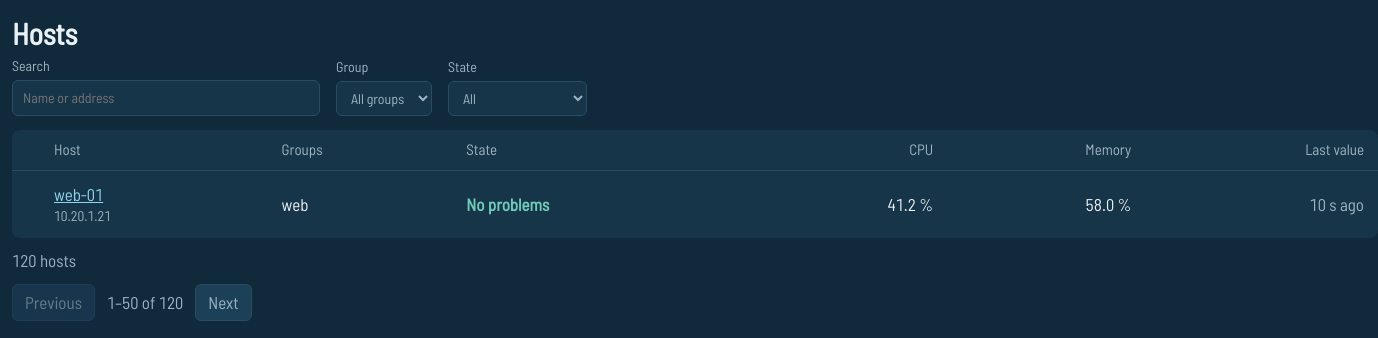
Test: table › keeps the pager on the shown page and disabled while the next page loads
This screenshot has width=1378, height=338.
Later steps or results of the test are not shown.
Click the button "Next": (224, 303) [195,284,252,321]
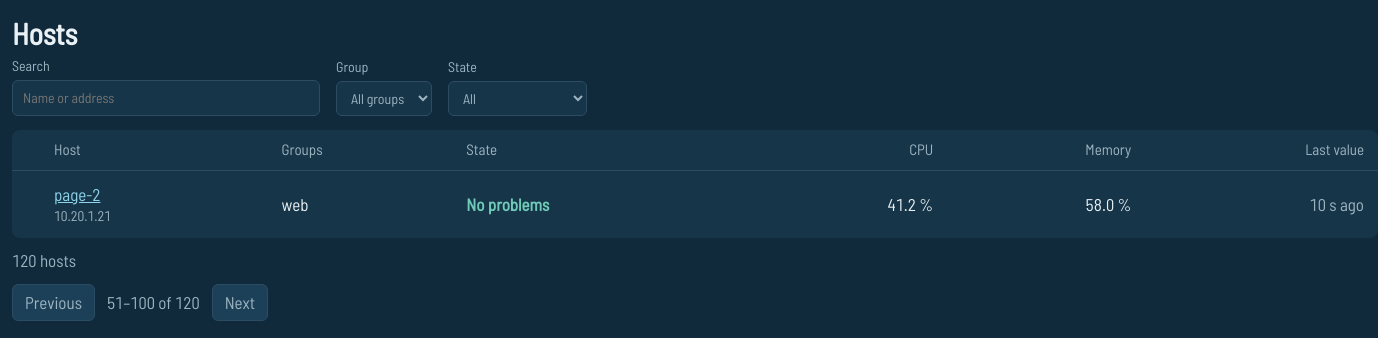
expect the text "51–100 of 120" is shown: met, box [107,290,200,315]
expect the button "Previous" is enabled: met, box [12,284,95,321]
